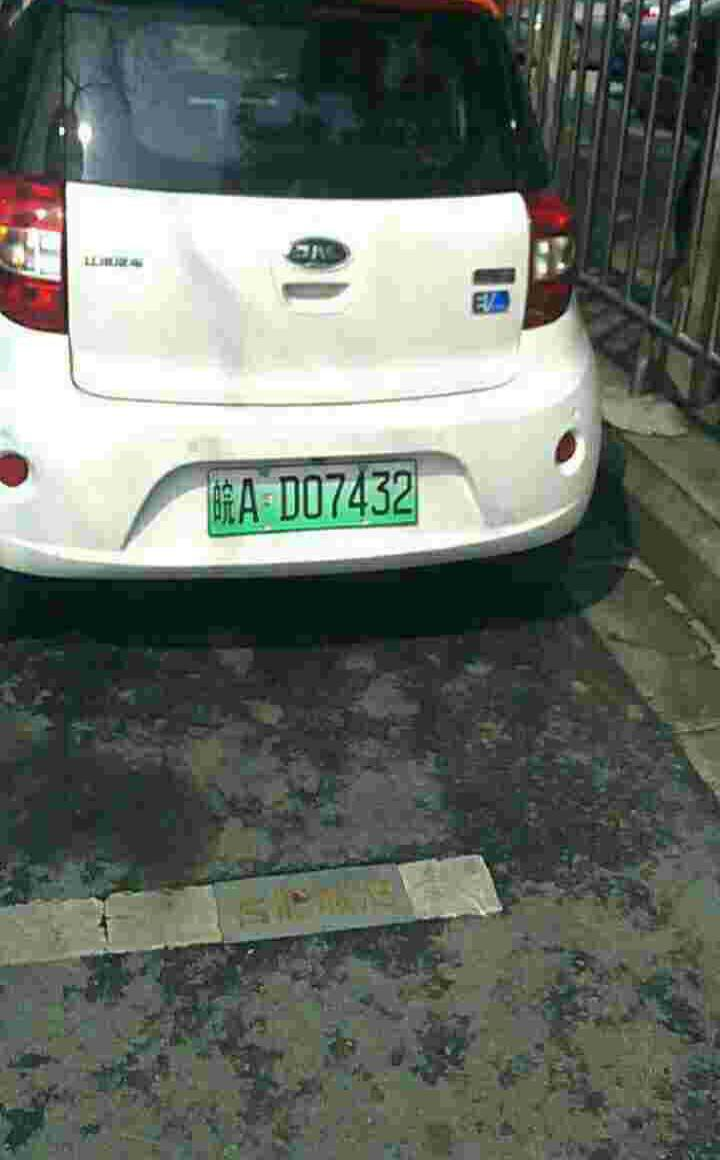car_id: (207, 458, 417, 534)
